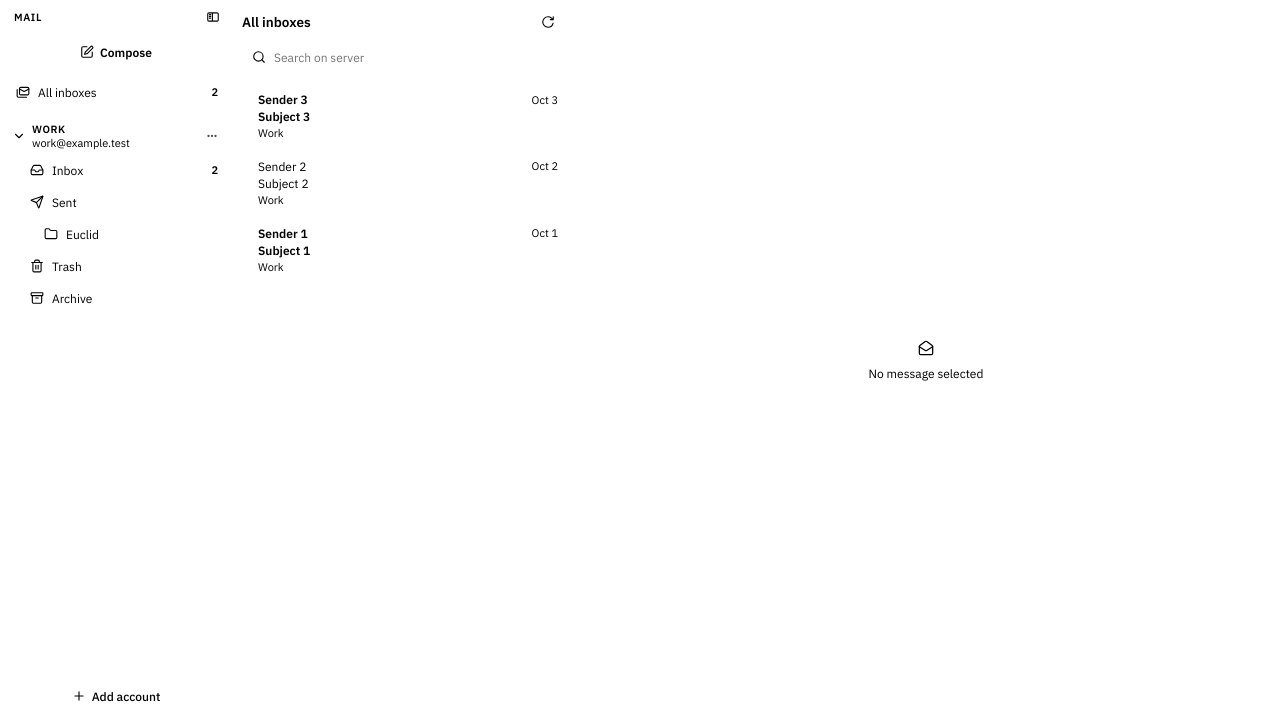
Test: move refused: the row comes back in the same place, the reader reopens and the reason is shown
This screenshot has width=1280, height=720.
Click the button "Inbox 2". click: [116, 170]
box: [6,154,226,186]
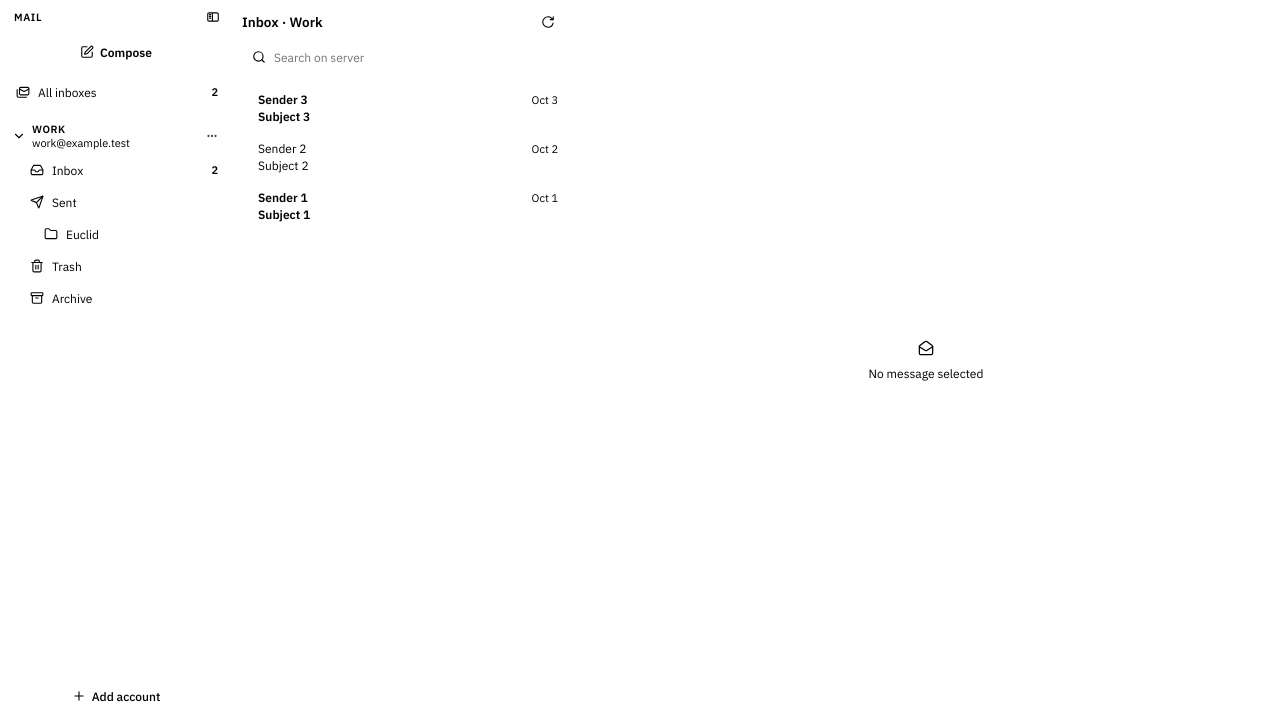
Click the button "Sender 2 Oct 2 Subject 2". click: [282, 148]
box: [238,133,566,182]
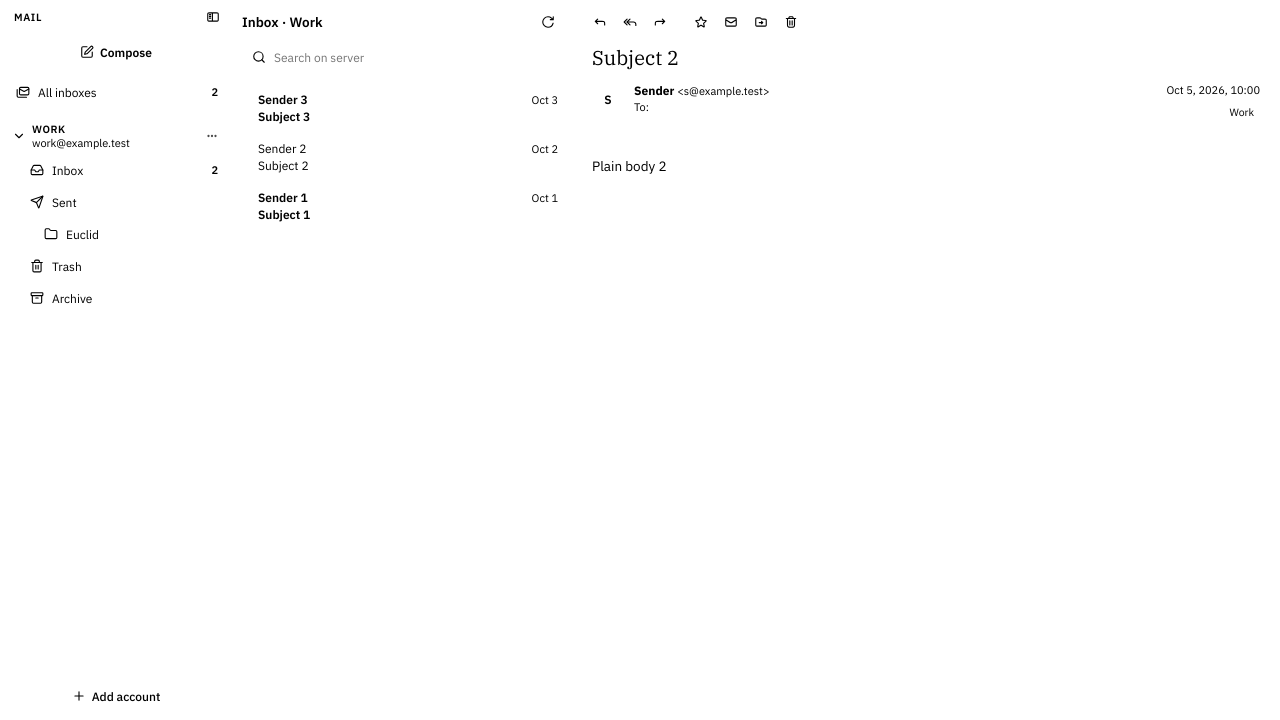
Now the text "Plain body 2" is shown, box [592,157,666,175]
Click the button named "Move to folder". click: [761, 22]
box: [747,8,775,36]
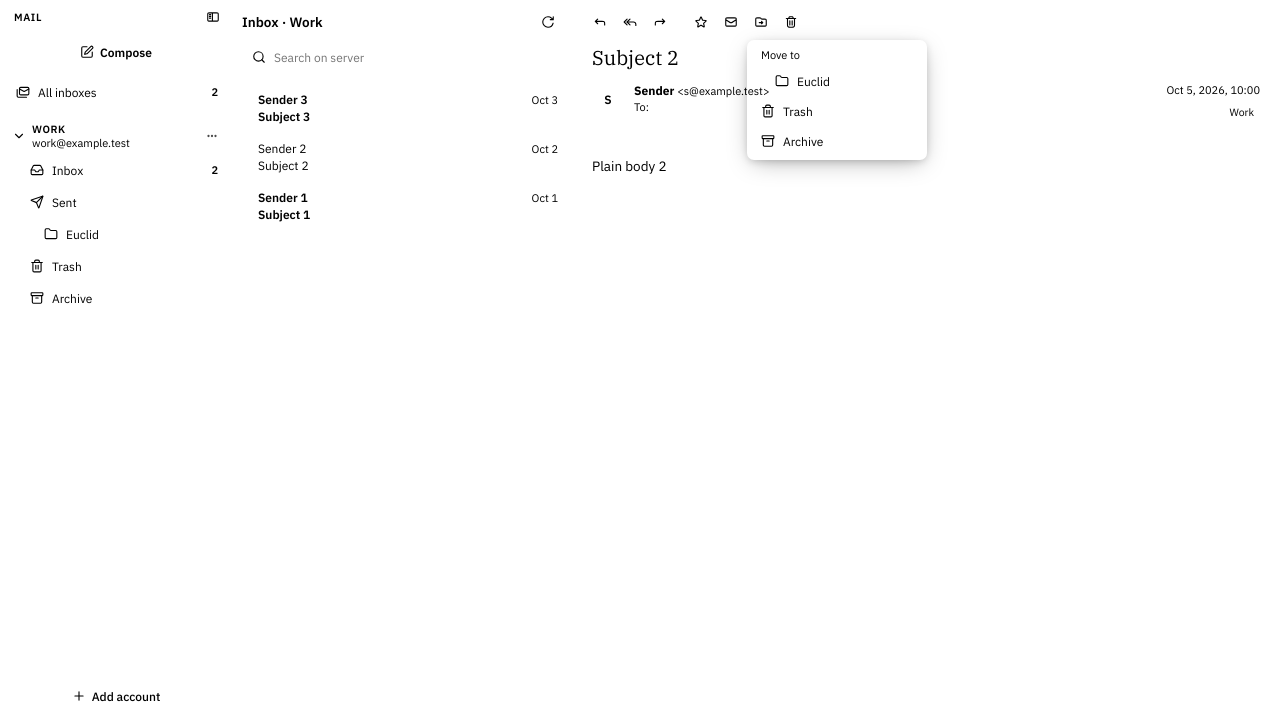
Click the button "Archive" below "Move to". click: [837, 141]
box: [751,126,923,156]
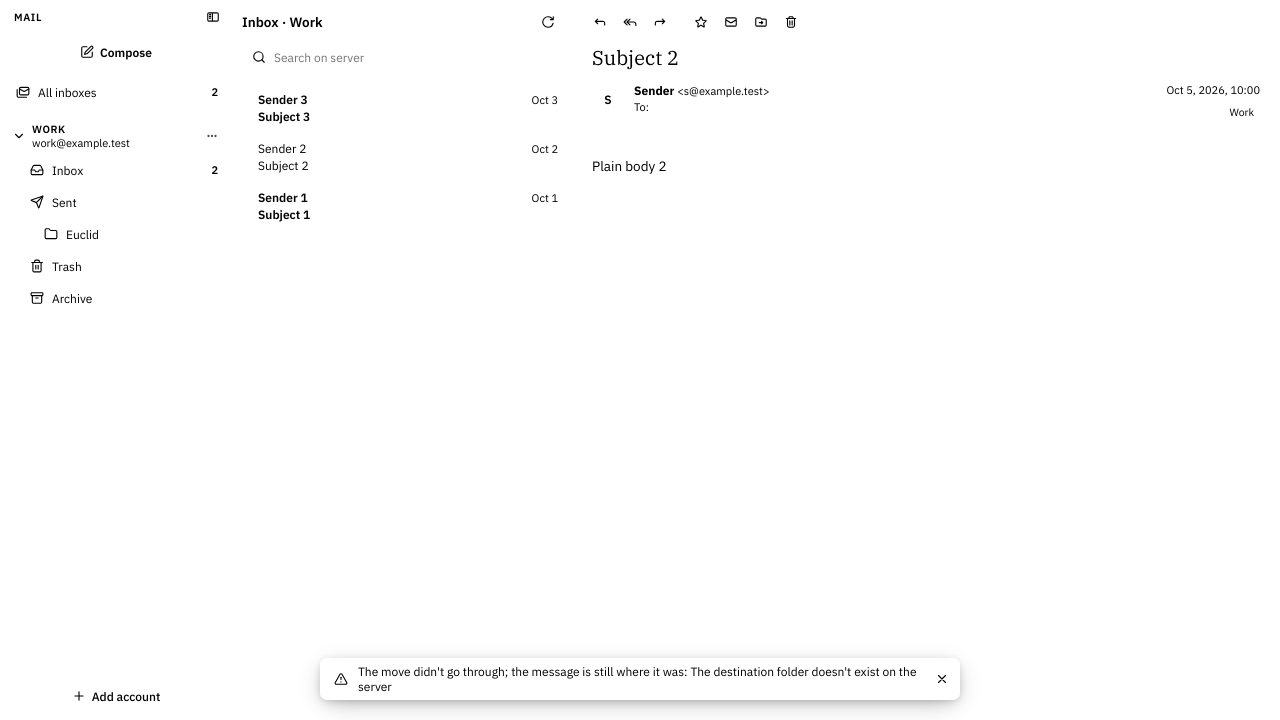
Now the text "Plain body 2" is shown, box [592,157,666,175]
Now the message shows "still where it was", box [358,664,916,694]
Now the message shows "destination folder doesn't exist", box [358,664,916,694]
